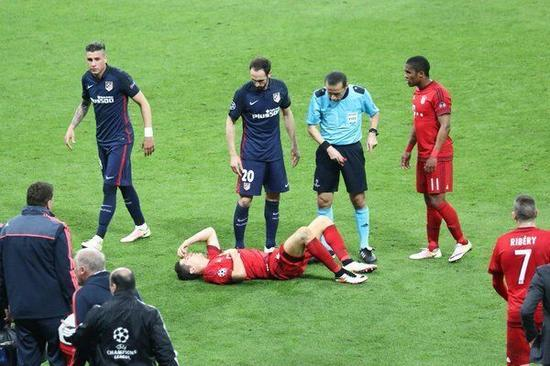down: (169, 214, 382, 296)
up: (44, 40, 160, 250), (382, 53, 483, 270), (216, 49, 302, 258), (302, 67, 385, 268), (1, 170, 76, 366), (490, 188, 550, 363)
